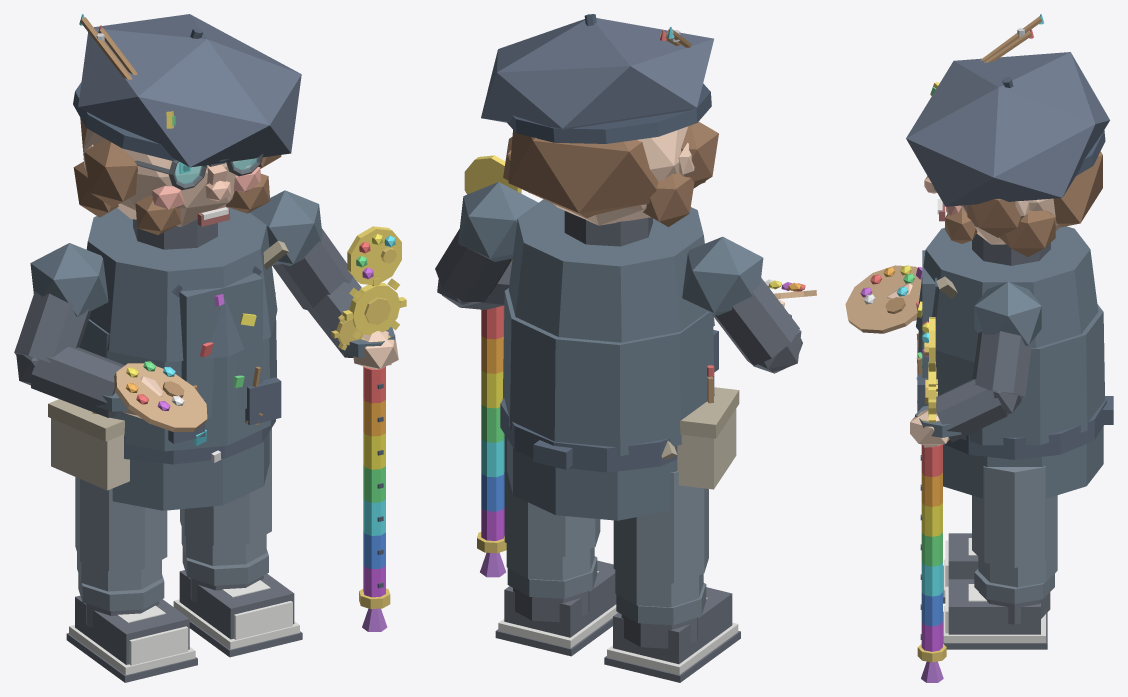
The model's file is artist.glb.
The picture shows the model from 3 angles, left to right: view 1: azimuth 30°, elevation 25°; view 2: azimuth 150°, elevation 25°; view 3: azimuth 270°, elevation 25°; orthographic projection. The views are drawn at different scales.
Parts seen in each view (by area): view 1: Artist; view 2: Artist; view 3: Artist.
Boxes of the visible parts, <box> form: Artist: <box>14,14,406,682</box>; Artist: <box>435,14,816,682</box>; Artist: <box>845,14,1113,682</box>.
Size of the model in its own units: 1.12 by 1.88 by 0.8135.
